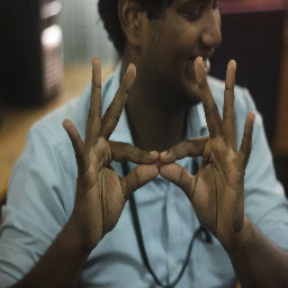B: (94, 119, 222, 209)
